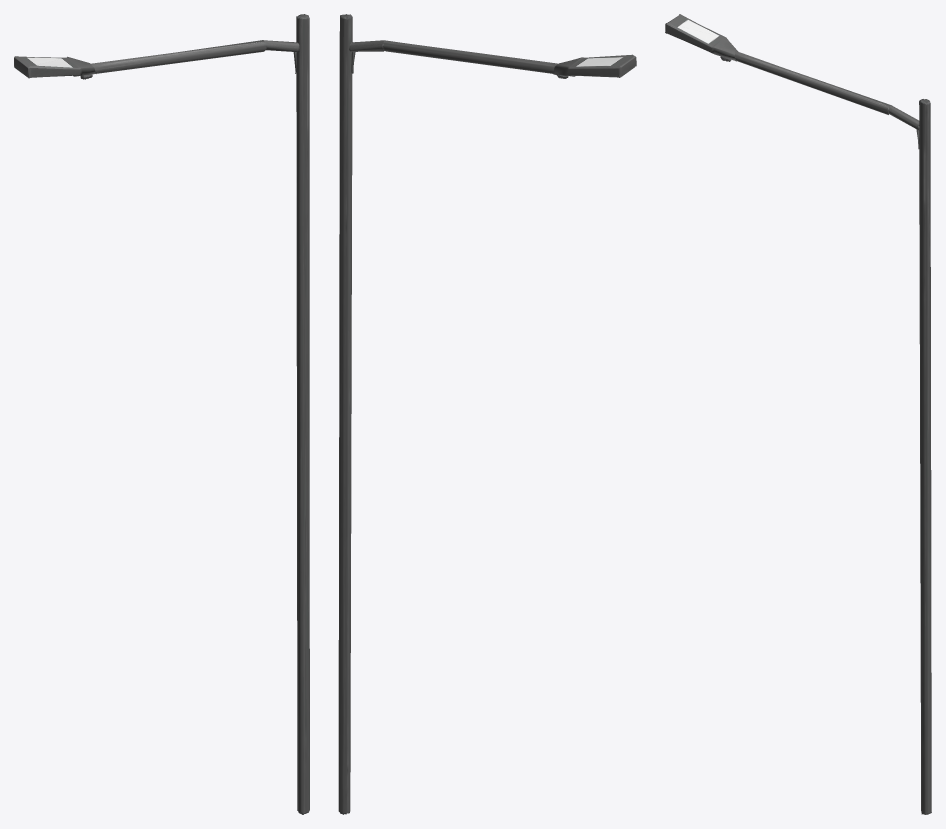
The model's file is meshy-streetlight.glb.
3 views of the same model, side by side, from view 1: azimuth 30°, elevation 25°; view 2: azimuth 150°, elevation 25°; view 3: azimuth 330°, elevation 25° (orthographic). The views are drawn at different scales.
Bounding box in the file's own units: 0.3677 × 0.9992 × 0.0348.
Materials: 1 (1 with a texture image).
